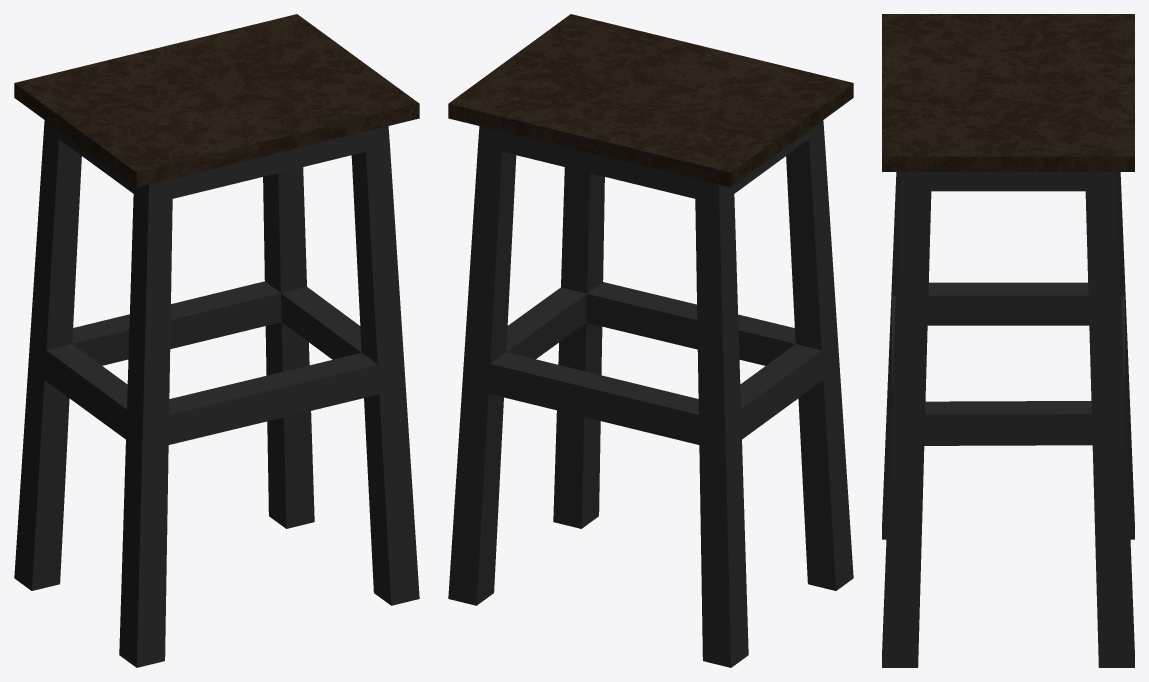
File: barstool-1.glb
3 views of the same model, side by side, from view 1: azimuth 30°, elevation 25°; view 2: azimuth 150°, elevation 25°; view 3: azimuth 270°, elevation 25° (orthographic). The views are drawn at different scales.
Parts seen in each view (by area): view 1: Stool-1_0; view 2: Stool-1_0; view 3: Stool-1_0.
Part boxes in pixels (x1,y1,x2,y2): Stool-1_0: (14,14,419,667); Stool-1_0: (448,14,853,667); Stool-1_0: (882,14,1134,667).
Bounding box in the file's own units: 0.4 × 0.6692 × 0.3.
Materials: 2 (1 with a texture image).
